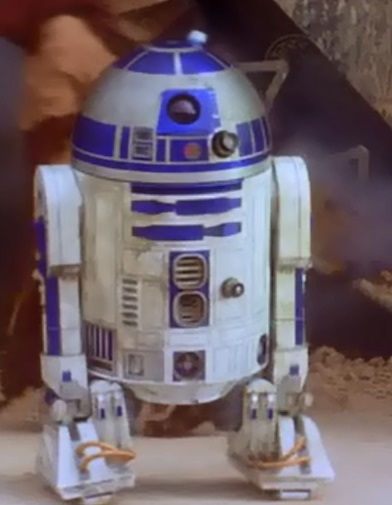r2d2: (32, 30, 336, 502)
